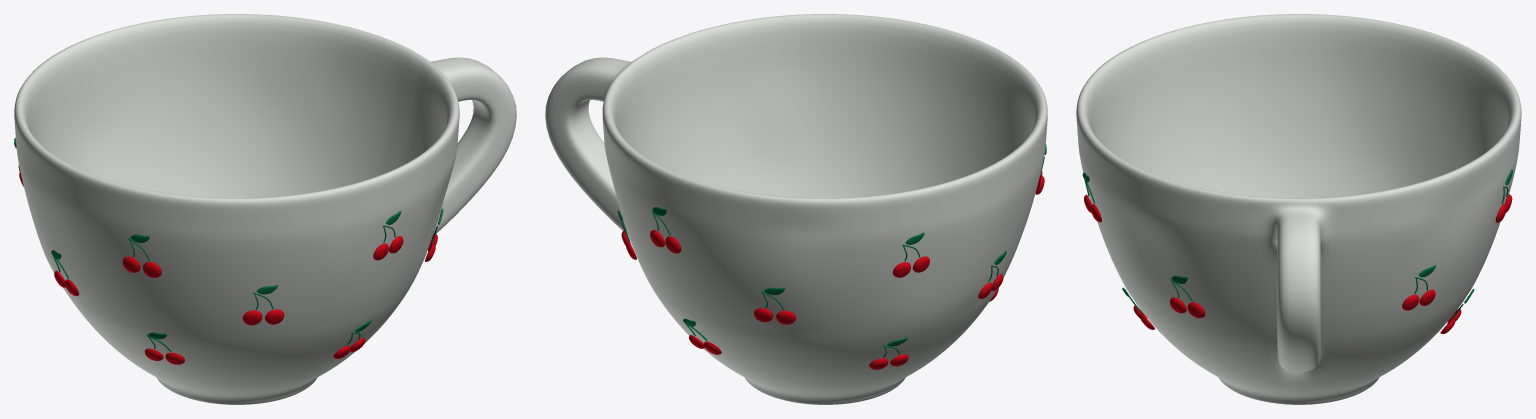
File: ceramic_cup_with_cherry.glb
3 renders of one model, left to right at view 1: azimuth 30°, elevation 25°; view 2: azimuth 150°, elevation 25°; view 3: azimuth 270°, elevation 25°, orthographic.
Visible parts, largest first — view 1: Circle, CHERRY.005, CHERRY.002, CHERRY.001, CHERRY.011; view 2: Circle, CHERRY.007, CHERRY.003, CHERRY.004, CHERRY.012; view 3: Circle, CHERRY.009, CHERRY.008.
Part boxes in pixels (x1,y1,x2,y2): Circle: (14, 14, 516, 404); CHERRY.005: (242, 285, 284, 325); CHERRY.002: (122, 234, 161, 277); CHERRY.001: (373, 211, 403, 260); CHERRY.011: (144, 332, 184, 364); Circle: (545, 14, 1047, 404); CHERRY.007: (754, 287, 795, 324); CHERRY.003: (892, 232, 929, 277); CHERRY.004: (650, 207, 681, 253); CHERRY.012: (869, 337, 908, 369); Circle: (1076, 14, 1521, 404); CHERRY.009: (1170, 275, 1205, 318); CHERRY.008: (1402, 265, 1435, 310).
Bounding box in the file's own units: 2.98 × 1.61 × 2.46.
